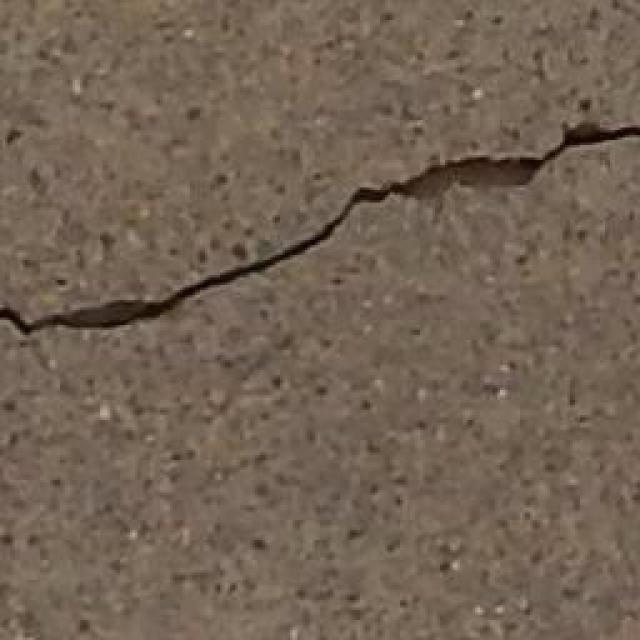concrete-crack: (2, 118, 634, 344)
